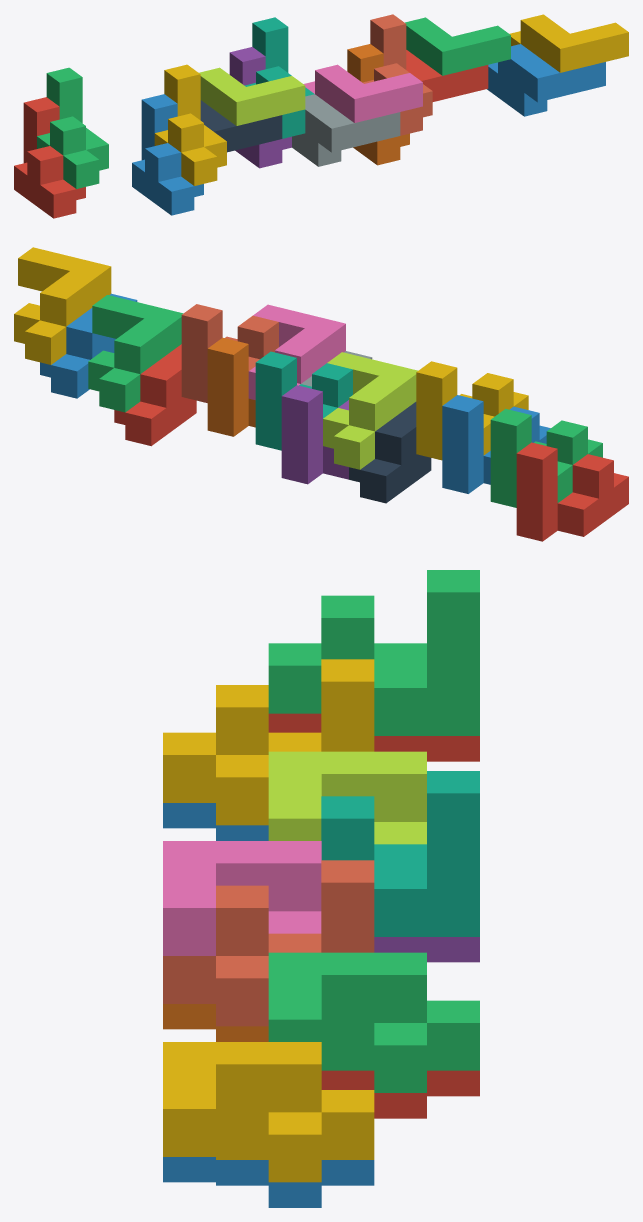
The model's file is tiling.obj.
The picture shows the model from 3 angles, top to bottom: view 1: azimuth 30°, elevation 25°; view 2: azimuth 150°, elevation 25°; view 3: azimuth 270°, elevation 25°; orthographic projection. The views are drawn at different scales.
Parts seen in each view (by area): view 1: copy_1_domain_4, copy_1_domain_3, copy_2_domain_6, copy_1_domain_1, copy_1_domain_2, copy_2_domain_8, copy_2_domain_4, copy_2_domain_3, copy_2_domain_2, copy_2_domain_7, copy_1_domain_8, copy_1_domain_7 (+4 smaller); view 2: copy_1_domain_1, copy_2_domain_8, copy_2_domain_7, copy_2_domain_3, copy_1_domain_3, copy_1_domain_4, copy_1_domain_2, copy_1_domain_7, copy_1_domain_8, copy_1_domain_5, copy_2_domain_1, copy_2_domain_5 (+3 smaller); view 3: copy_2_domain_8, copy_2_domain_7, copy_1_domain_3, copy_1_domain_4, copy_1_domain_7, copy_1_domain_8, copy_2_domain_4, copy_2_domain_3, copy_2_domain_6, copy_2_domain_5, copy_1_domain_1, copy_1_domain_2 (+2 smaller).
Boxes of the visible parts, box(x1,y1,x2,y2) form: copy_1_domain_4: box(154, 64, 226, 185); copy_1_domain_3: box(37, 67, 108, 188); copy_2_domain_6: box(487, 44, 605, 116); copy_1_domain_1: box(14, 97, 85, 218); copy_1_domain_2: box(132, 94, 203, 215); copy_2_domain_8: box(509, 14, 628, 72); copy_2_domain_4: box(303, 64, 422, 122); copy_2_domain_3: box(199, 67, 305, 125); copy_2_domain_2: box(292, 94, 400, 166); copy_2_domain_7: box(405, 17, 510, 75); copy_1_domain_8: box(362, 14, 432, 135); copy_1_domain_7: box(244, 17, 314, 138); copy_1_domain_1: box(516, 442, 628, 541); copy_2_domain_8: box(14, 247, 111, 364); copy_2_domain_7: box(88, 295, 183, 412); copy_2_domain_3: box(323, 352, 417, 469); copy_1_domain_3: box(490, 408, 602, 507); copy_1_domain_4: box(416, 361, 528, 460); copy_1_domain_2: box(442, 395, 550, 493); copy_1_domain_7: box(255, 351, 352, 450); copy_1_domain_8: box(181, 304, 278, 402); copy_1_domain_5: box(281, 385, 348, 484); copy_2_domain_1: box(349, 402, 431, 503); copy_2_domain_5: box(114, 344, 196, 446); copy_2_domain_8: box(163, 1042, 374, 1182); copy_2_domain_7: box(268, 952, 479, 1092); copy_1_domain_3: box(268, 570, 479, 735); copy_1_domain_4: box(163, 659, 374, 825); copy_1_domain_7: box(321, 771, 479, 936); copy_1_domain_8: box(163, 860, 374, 1026); copy_2_domain_4: box(163, 841, 321, 955); copy_2_domain_3: box(268, 751, 426, 844); copy_2_domain_6: box(163, 1157, 374, 1207); copy_2_domain_5: box(321, 1070, 479, 1118); copy_1_domain_1: box(268, 713, 479, 761); copy_1_domain_2: box(163, 803, 268, 840).
Size of the model in its own units: 24 by 4 by 6.
